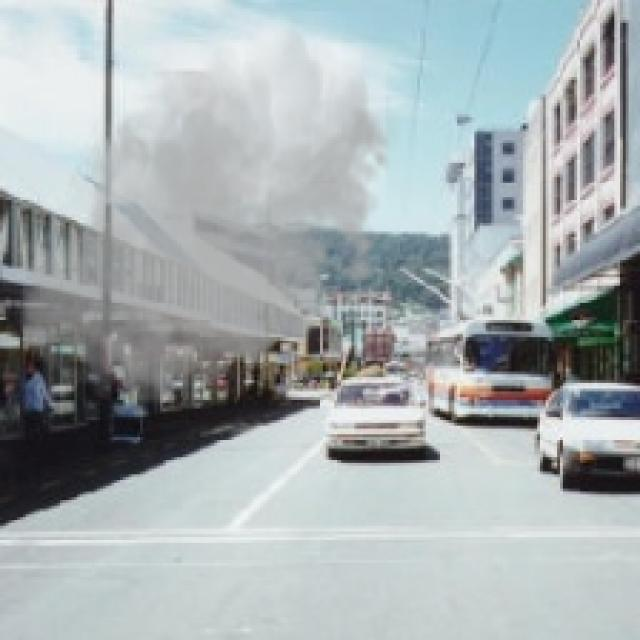smoke: (11, 11, 403, 420)
